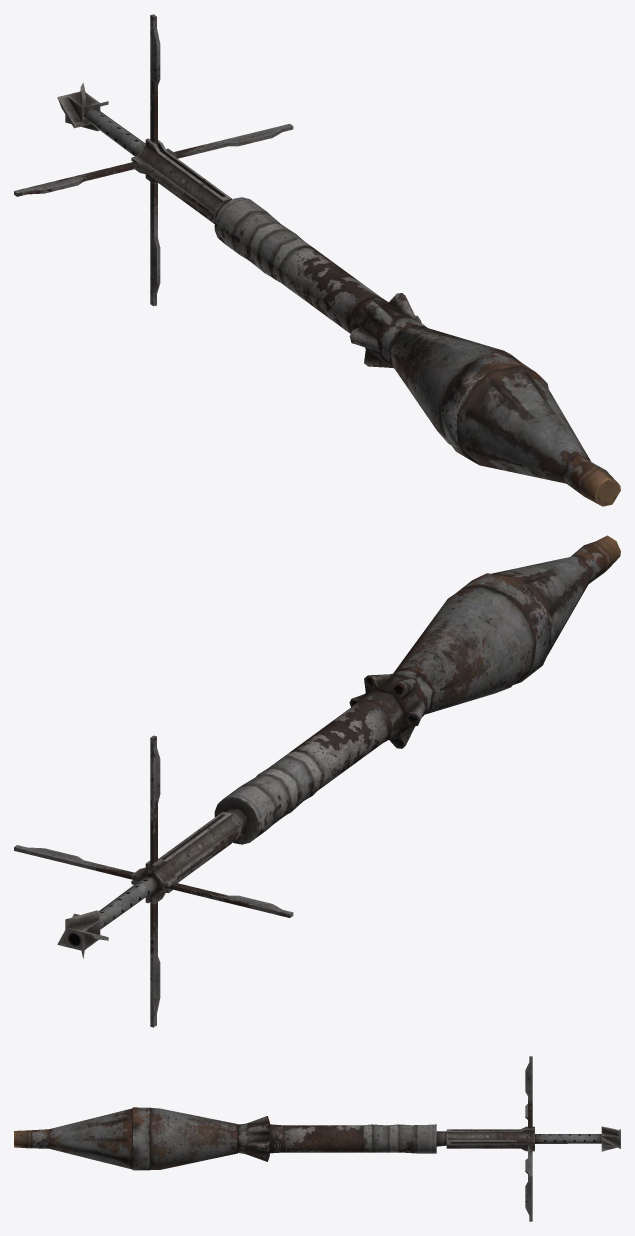
File: rocket_basic_rpg.glb
3 views of the same model, one above another, from view 1: azimuth 30°, elevation 25°; view 2: azimuth 150°, elevation 25°; view 3: azimuth 270°, elevation 25° (orthographic). The views are drawn at different scales.
Parts seen in each view (by area): view 1: rpg_LOD0; view 2: rpg_LOD0; view 3: rpg_LOD0.
Boxes of the visible parts, <box> form: rpg_LOD0: <box>14,14,620,506</box>; rpg_LOD0: <box>14,535,620,1027</box>; rpg_LOD0: <box>14,1056,620,1221</box>.
Bounding box in the file's own units: 0.2359 × 0.2359 × 0.7897.
1 material, 1 textured.
